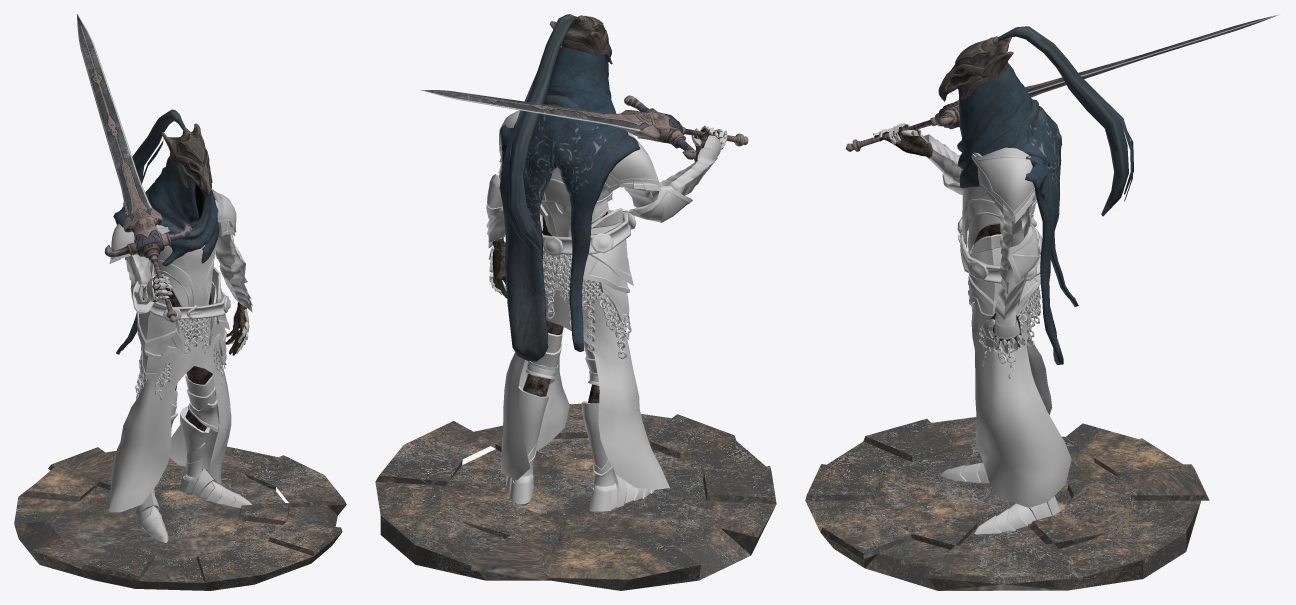
3 renders of one model, left to right at view 1: azimuth 30°, elevation 25°; view 2: azimuth 150°, elevation 25°; view 3: azimuth 270°, elevation 25°, orthographic. The views are drawn at different scales.
Parts seen in each view (by area): view 1: Circle, Plate Armor.001, Skirt.001, Helmet.001, Sword_Cylinder.001, Chainmail.001; view 2: Circle, Helmet.001, Plate Armor.001, Skirt.001, Sword_Cylinder.001, Chainmail.001; view 3: Circle, Helmet.001, Plate Armor.001, Skirt.001, Sword_Cylinder.001, Chainmail.001.
Part boxes in pixels (x1,y1,x2,y2): Circle: (14, 446, 346, 590); Plate Armor.001: (109, 189, 252, 543); Skirt.001: (109, 292, 231, 512); Helmet.001: (113, 109, 219, 354); Sword_Cylinder.001: (76, 14, 191, 322); Chainmail.001: (142, 275, 246, 431); Circle: (375, 403, 776, 590); Helmet.001: (499, 14, 640, 361); Plate Armor.001: (486, 110, 727, 512); Skirt.001: (501, 210, 669, 489); Sword_Cylinder.001: (421, 90, 748, 159); Chainmail.001: (492, 128, 724, 403); Circle: (805, 417, 1209, 590); Helmet.001: (938, 26, 1133, 364); Plate Armor.001: (873, 123, 1060, 535); Skirt.001: (957, 217, 1071, 507); Sword_Cylinder.001: (845, 14, 1279, 151); Chainmail.001: (874, 124, 1024, 350).
Size of the model in its own units: 960 by 1342 by 1131.
